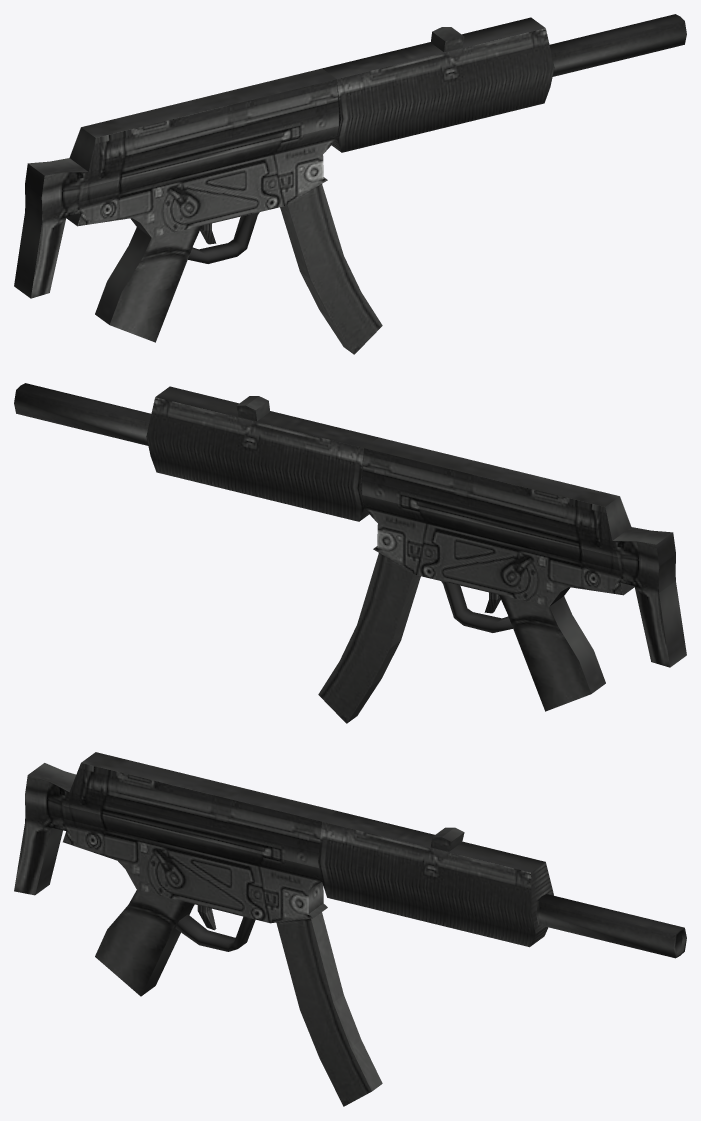
Rendered from Submachine_Gun.fbx.
3 views of the same model, one above another, from view 1: azimuth 30°, elevation 25°; view 2: azimuth 150°, elevation 25°; view 3: azimuth 330°, elevation 25° (orthographic).
Visible parts, largest first — view 1: Submachine_Gun, Magazine.002; view 2: Submachine_Gun, Magazine.002; view 3: Submachine_Gun, Magazine.002.
Part boxes in pixels (<box>): Submachine_Gun: <box>14,14,686,342</box>; Magazine.002: <box>280,184,382,354</box>; Submachine_Gun: <box>14,383,686,711</box>; Magazine.002: <box>318,553,420,723</box>; Submachine_Gun: <box>14,752,686,996</box>; Magazine.002: <box>276,912,382,1106</box>.
Size of the model in its own units: 62.89 by 26.94 by 3.84.
